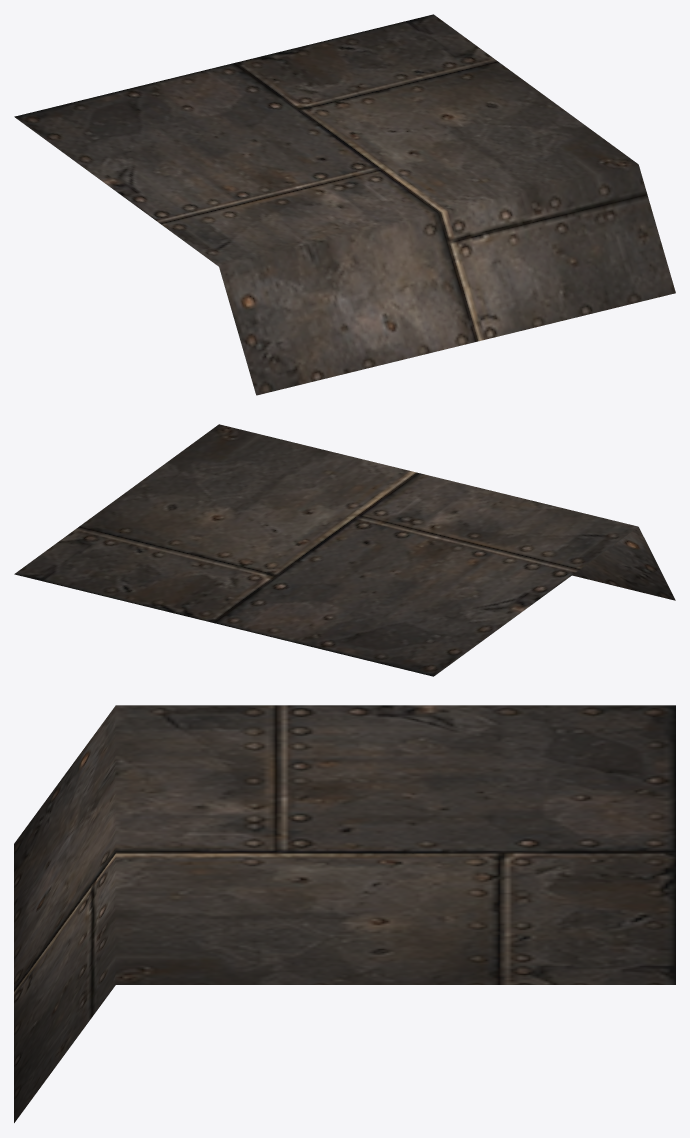
The model's file is roof_metal_2.fbx.
3 renders of one model, top to bottom at view 1: azimuth 30°, elevation 25°; view 2: azimuth 150°, elevation 25°; view 3: azimuth 270°, elevation 25°, orthographic. The views are drawn at different scales.
Parts seen in each view (by area): view 1: roof_metal_2; view 2: roof_metal_2; view 3: roof_metal_2.
Boxes of the visible parts, x1,y1,x2,y2 form: roof_metal_2: (14, 14, 675, 395); roof_metal_2: (14, 424, 675, 676); roof_metal_2: (14, 705, 675, 1122).
Size of the model in its own units: 3 by 0.6932 by 3.
